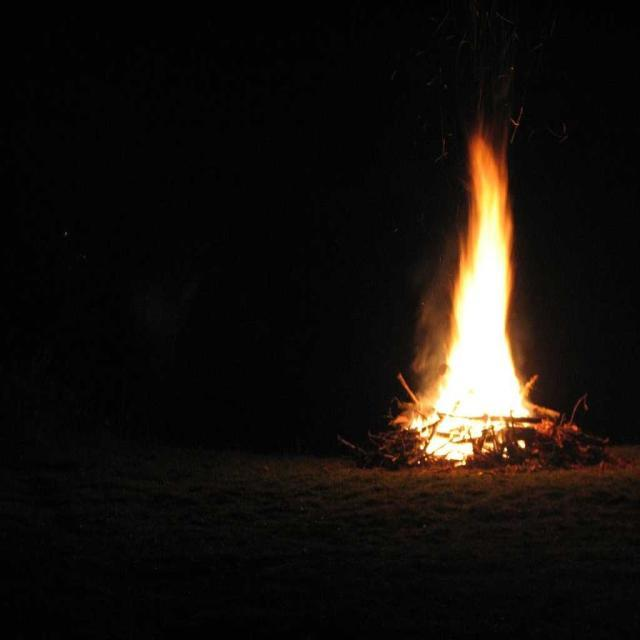Fire: (431, 136, 537, 466)
